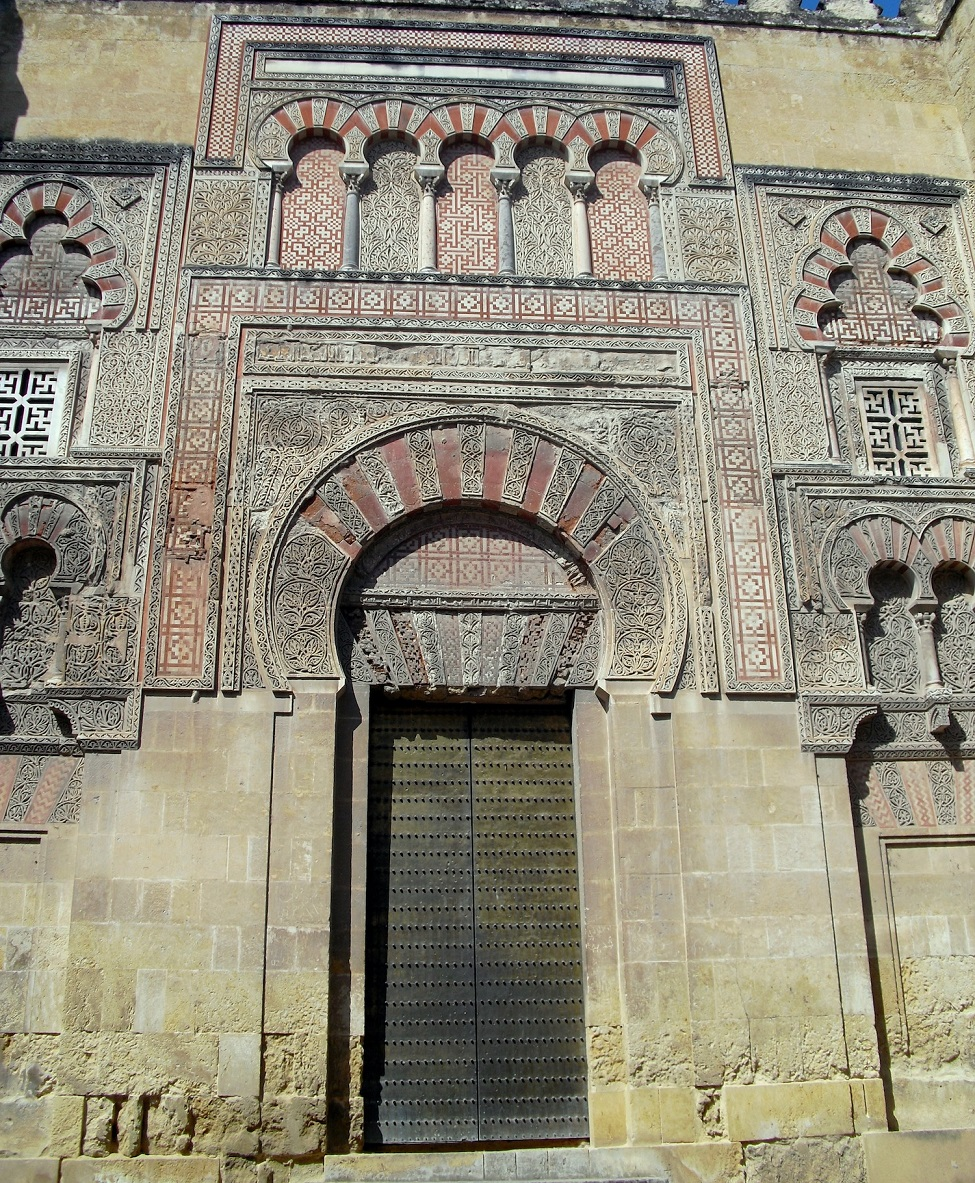arco-herradura: (321, 486, 622, 719), (581, 128, 663, 200), (850, 545, 928, 620), (1, 525, 70, 605), (275, 118, 355, 186), (351, 120, 430, 186), (505, 127, 580, 193), (432, 121, 505, 188), (929, 549, 975, 619)
arco-lobulado: (804, 226, 961, 369), (1, 199, 118, 340)
